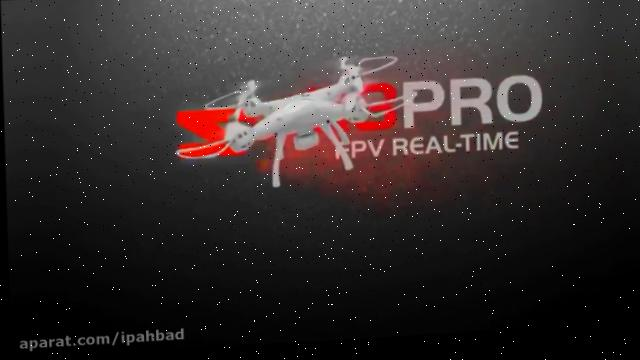drone: (171, 58, 417, 197)
